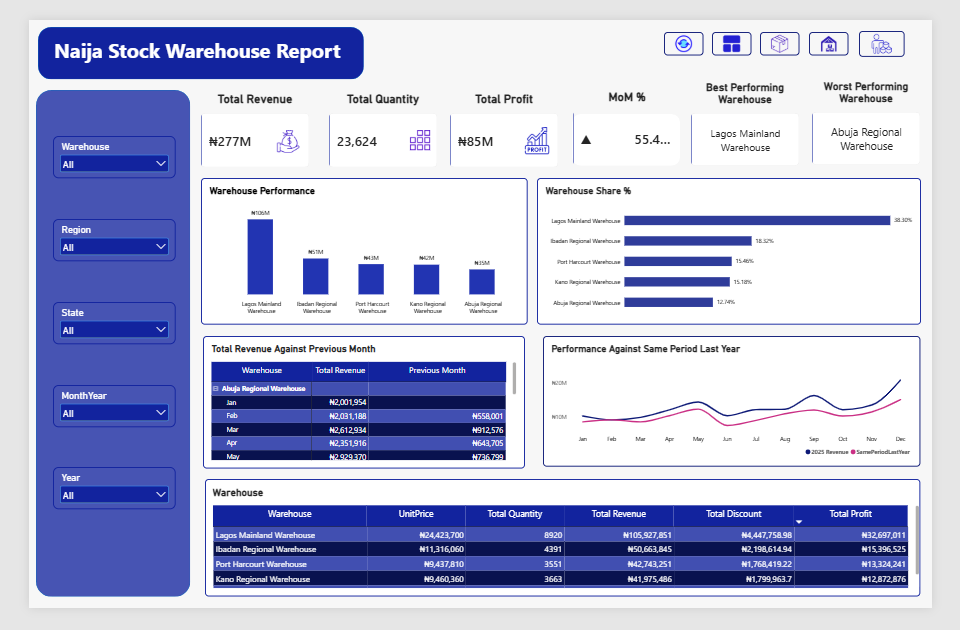

This screenshot's page, from the dashboard's own definition file:
{"tool":"powerbi","page":{"name":"Warehouse Page ","canvas":[1920,1250],"ordinal":2},"visuals":[{"type":"clusteredBarChart","title":"Warehouse Share %","fields":{"Category":["Dim_Warehouse.WarehouseName"],"Y":["Warehouse_Measure_TableTable.Warehouse Share %"]},"box":[1080,336.7,816.7,311.7],"z":0},{"type":"image","box":[1554.3,25,83.6,50.1],"z":1000},{"type":"image","box":[1659.9,25,83.6,50.1],"z":2000},{"type":"image","box":[1766.7,23.3,96.7,55],"z":3000},{"type":"image","box":[1453.3,25,83.6,50.1],"z":4000},{"type":"image","box":[1350,25,83.6,50.1],"z":5000},{"type":"shape","box":[20,15,693.4,111.5],"z":6000},{"type":"shape","box":[15,148.3,328.3,1078.3],"z":7000},{"type":"textbox","box":[53.3,35,625,69.2],"z":12000},{"type":"cardVisual","title":"Total Quantity","fields":{"Data":["Overview_Measure_Table.Total Quantity"]},"box":[638.3,153.3,230,160],"z":13000},{"type":"cardVisual","title":"Total Profit","fields":{"Data":["Overview_Measure_Table.Total Profit"]},"box":[896.7,153.3,230,160],"z":14000},{"type":"cardVisual","title":"Best Performing Warehouse","fields":{"Data":["Warehouse_Measure_TableTable.Best Performing Warehouse"]},"box":[1408.3,130,230,180],"z":15000},{"type":"cardVisual","title":"Total Revenue","fields":{"Data":["Overview_Measure_Table.Total Revenue"]},"box":[366.7,153.3,230,160],"z":16000},{"type":"cardVisual","title":"Worst Performing Warehouse","fields":{"Data":["Warehouse_Measure_TableTable.Lowest Performing Warehouse"]},"box":[1666.7,126.7,230,180],"z":17000},{"type":"tableEx","title":"Warehouse","fields":{"Values":["Dim_Warehouse.WarehouseName","Sum(Fact_Sales.UnitPrice)","Overview_Measure_Table.Total Quantity","Overview_Measure_Table.Total Revenue","Overview_Measure_Table.Total Discount","Overview_Measure_Table.Total Profit"]},"box":[375,976.7,1521.7,250],"z":18000},{"type":"clusteredColumnChart","title":"Warehouse Performance","fields":{"Category":["Dim_Warehouse.WarehouseName"],"Y":["Warehouse_Measure_TableTable.Warehouse Performance"]},"box":[366.7,336.7,695,311.7],"z":19000},{"type":"shape","box":[1155,200,230,110],"z":20000},{"type":"cardVisual","title":"MoM %","fields":{"Data":["Overview_Measure_Table.MoM Icon","Overview_Measure_Table.Latest Month MoM %"]},"box":[1156.7,148.3,230,160],"z":21000},{"type":"lineChart","title":"Performance Against Same Period Last Year","fields":{"Category":["Dim_Date.Month Name"],"Y":["Overview_Measure_Table.2025 Revenue","Overview_Measure_Table.SamePeriodLastYear"]},"box":[1093.3,673.3,803.3,278.3],"z":22000},{"type":"pivotTable","title":"Total Revenue Against Previous Month","fields":{"Rows":["Dim_Warehouse.WarehouseName","Dim_Date.Month Name"],"Values":["Overview_Measure_Table.Total Revenue","Overview_Measure_Table.Previous Month"]},"box":[370,673.3,685,281.7],"z":23000},{"type":"image","box":[808.3,235,46.7,43.3],"z":24000},{"type":"image","box":[520,233.3,65,48.3],"z":25000},{"type":"image","box":[1050,226.7,60,58.3],"z":26000},{"type":"slicer","fields":{"Values":["Dim_Warehouse.WarehouseName"]},"box":[51.2,247.8,261.2,90.5],"z":26001},{"type":"slicer","fields":{"Values":["Dim_Warehouse.Region"]},"box":[51.2,423.8,261.2,90.5],"z":26002},{"type":"slicer","fields":{"Values":["Dim_Date.MonthYear"]},"box":[51.2,775.7,261.2,90.5],"z":26003},{"type":"slicer","fields":{"Values":["Dim_Date.Year"]},"box":[51.2,951.7,261.2,90.5],"z":26004},{"type":"slicer","fields":{"Values":["Dim_Warehouse.State"]},"box":[51.2,599.7,261.2,90.5],"z":26005}]}

Visuals, with their boxes in screenshot pixels (x1, y1, x2, y2), scaled from the page's 1920x1250 canvas onto the 960x630 screenshot:
"Warehouse Share %" clusteredBarChart: left=540, top=170, right=948, bottom=327
image: left=777, top=13, right=819, bottom=38
image: left=830, top=13, right=872, bottom=38
image: left=883, top=12, right=932, bottom=39
image: left=727, top=13, right=768, bottom=38
image: left=675, top=13, right=717, bottom=38
shape: left=10, top=8, right=357, bottom=64
shape: left=8, top=75, right=172, bottom=618
textbox: left=27, top=18, right=339, bottom=53
"Total Quantity" cardVisual: left=319, top=77, right=434, bottom=158
"Total Profit" cardVisual: left=448, top=77, right=563, bottom=158
"Best Performing Warehouse" cardVisual: left=704, top=66, right=819, bottom=156
"Total Revenue" cardVisual: left=183, top=77, right=298, bottom=158
"Worst Performing Warehouse" cardVisual: left=833, top=64, right=948, bottom=155
"Warehouse" tableEx: left=188, top=492, right=948, bottom=618
"Warehouse Performance" clusteredColumnChart: left=183, top=170, right=531, bottom=327
shape: left=578, top=101, right=692, bottom=156
"MoM %" cardVisual: left=578, top=75, right=693, bottom=155
"Performance Against Same Period Last Year" lineChart: left=547, top=339, right=948, bottom=480
"Total Revenue Against Previous Month" pivotTable: left=185, top=339, right=528, bottom=481
image: left=404, top=118, right=428, bottom=140
image: left=260, top=118, right=292, bottom=142
image: left=525, top=114, right=555, bottom=144
slicer - Dim_Warehouse.WarehouseName: left=26, top=125, right=156, bottom=171
slicer - Dim_Warehouse.Region: left=26, top=214, right=156, bottom=259
slicer - Dim_Date.MonthYear: left=26, top=391, right=156, bottom=437
slicer - Dim_Date.Year: left=26, top=480, right=156, bottom=525
slicer - Dim_Warehouse.State: left=26, top=302, right=156, bottom=348
